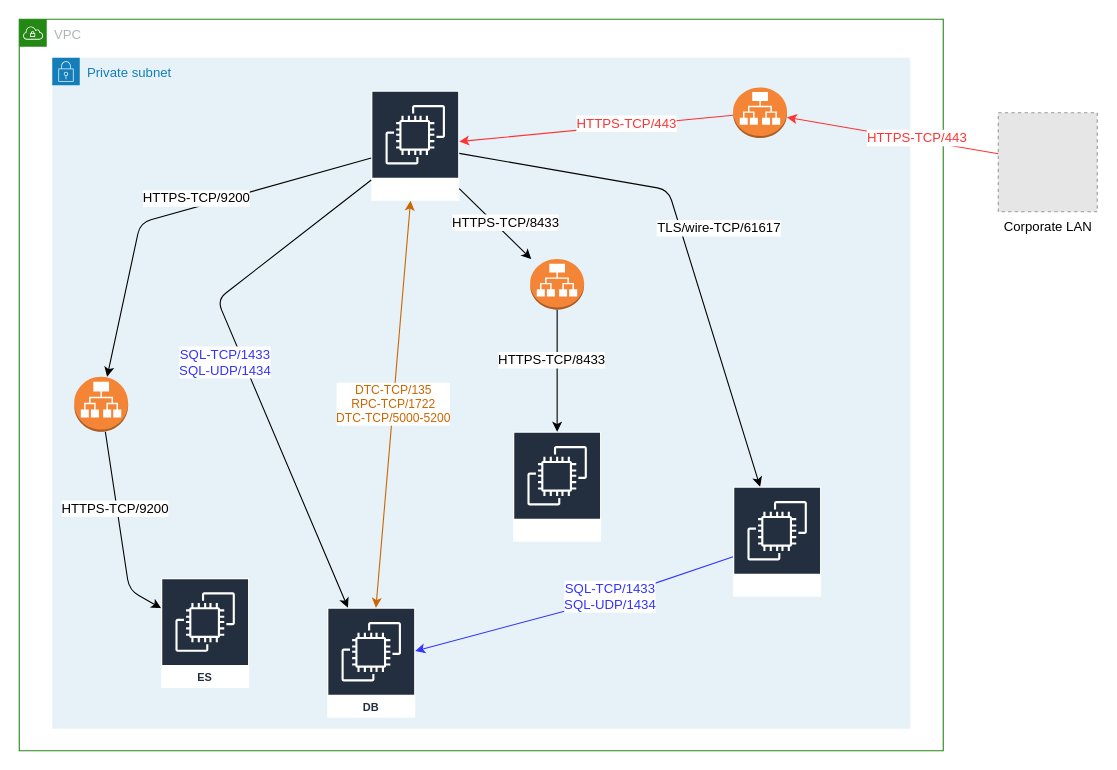
Some shapes in this 1117 by 770 pixel diagram are drawn without their labels. Grey dashed boxes stand in for pictures. Each missing label, with the box of its shape:
AMQ: (732, 486, 821, 597)
MW: (512, 431, 601, 542)
Web: (370, 90, 459, 201)
